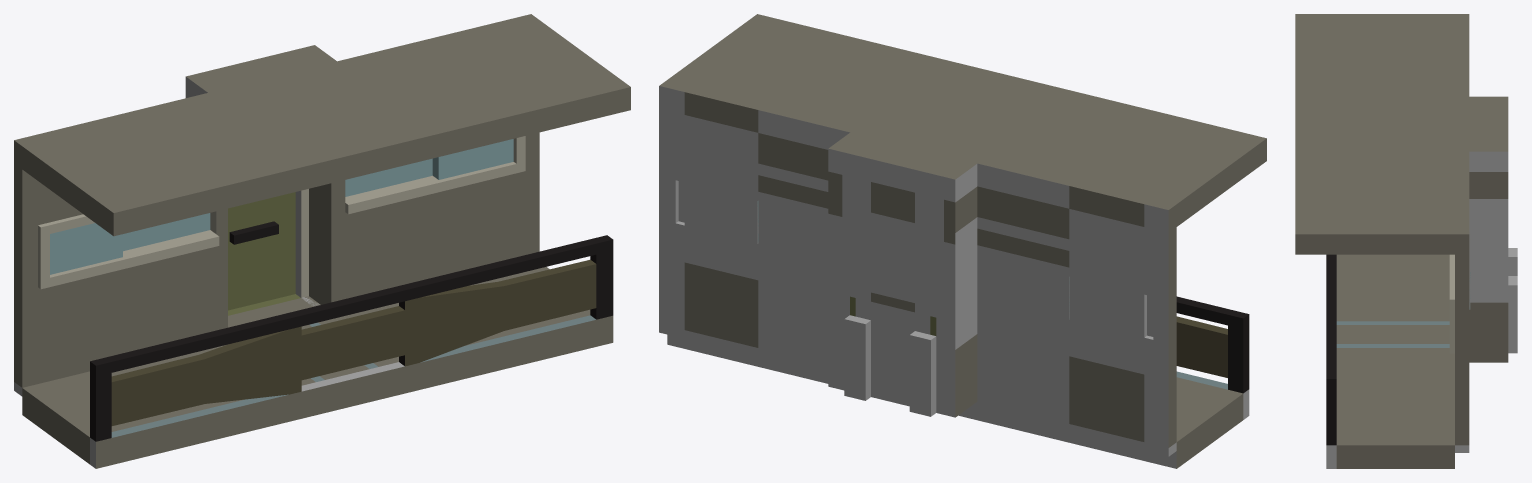
The model's file is HallwayShinbun.fbx.
3 views of the same model, side by side, from view 1: azimuth 30°, elevation 25°; view 2: azimuth 150°, elevation 25°; view 3: azimuth 270°, elevation 25° (orthographic). The views are drawn at different scales.
Visible parts, largest first — view 1: pCube1; view 2: pCube1; view 3: pCube1.
Boxes of the visible parts, x1,y1,x2,y2 form: pCube1: (14,14,630,468); pCube1: (659,14,1266,468); pCube1: (1295,14,1517,468).
Size of the model in its own units: 8.87 by 4.4 by 3.79.
